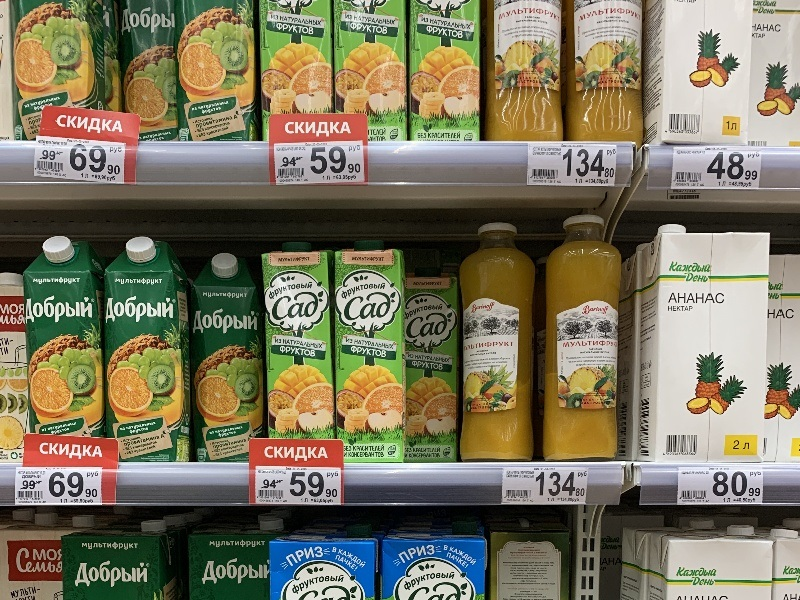juice: (93, 231, 202, 476), (184, 250, 269, 470), (332, 240, 413, 469), (21, 230, 105, 443), (255, 240, 342, 443)
